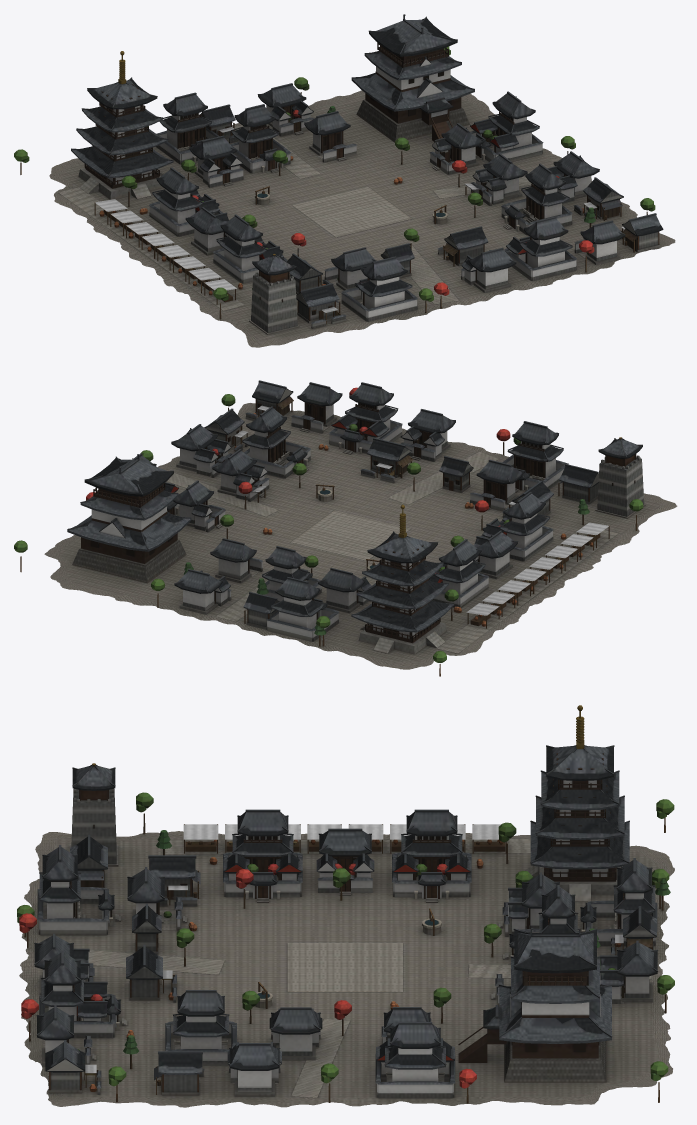
The model's file is kingdoms-town-big-b-japan.glb.
The picture shows the model from 3 angles, top to bottom: view 1: azimuth 30°, elevation 25°; view 2: azimuth 150°, elevation 25°; view 3: azimuth 270°, elevation 25°; orthographic projection. The views are drawn at different scales.
Parts seen in each view (by area): view 1: LOD0; view 2: LOD0; view 3: LOD0.
Part boxes in pixels (x1,y1,x2,y2): LOD0: (14,14,675,347); LOD0: (14,380,677,676); LOD0: (17,705,674,1107).
Size of what is drawn, in the model's own units: 8.05 by 2.33 by 8.12.
Materials: 3 (3 with a texture image).
